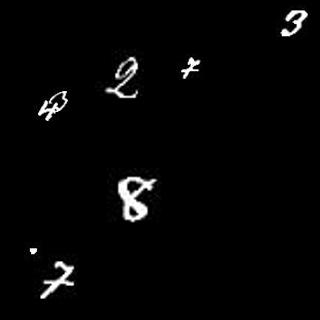dot: (27, 242, 39, 258)
eight: (120, 178, 163, 221)
four: (39, 100, 59, 122)
seven: (41, 261, 74, 300), (180, 57, 201, 76)
three: (279, 5, 307, 39), (50, 90, 75, 111)
two: (106, 56, 141, 98)
